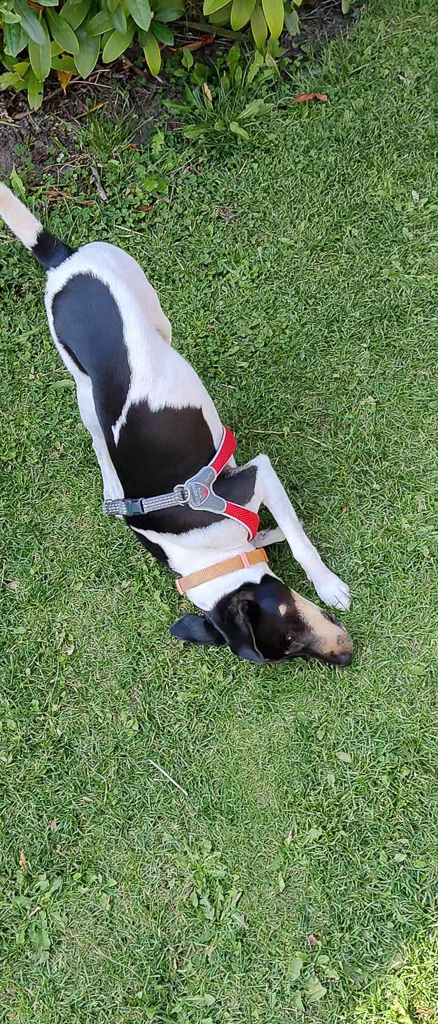Dog: (0, 170, 380, 682)
